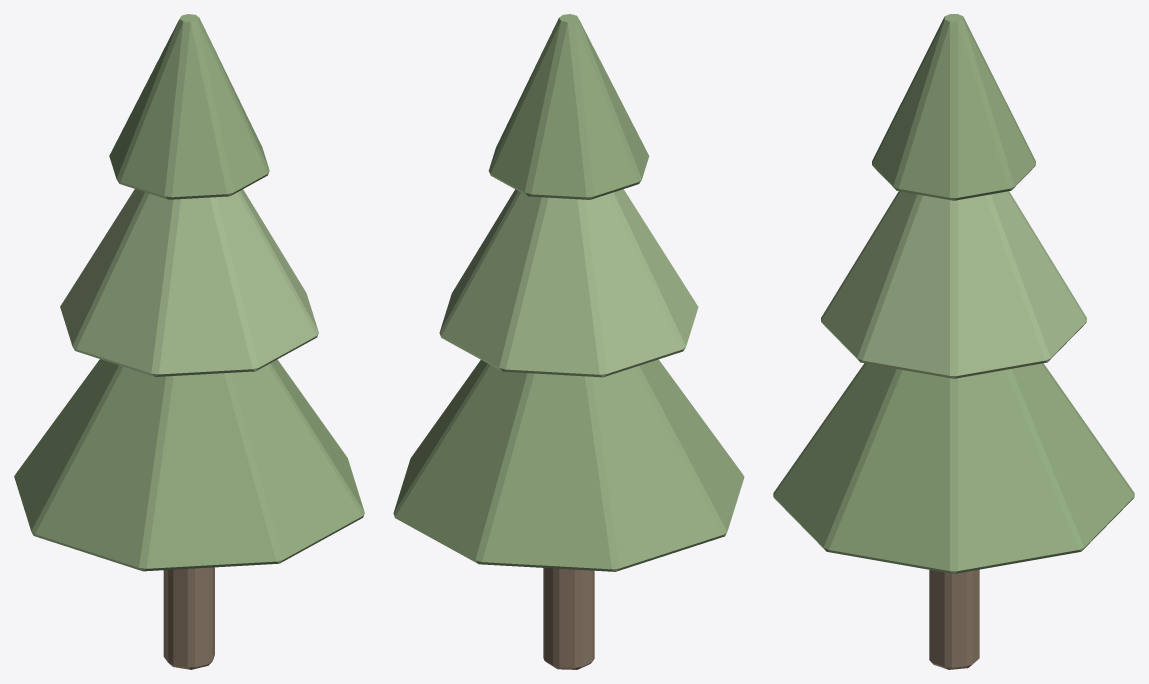
File: tree_pine.glb
3 views of the same model, side by side, from view 1: azimuth 30°, elevation 25°; view 2: azimuth 150°, elevation 25°; view 3: azimuth 270°, elevation 25° (orthographic).
Parts seen in each view (by area): view 1: c1, c2, c3, trunk; view 2: c1, c2, c3, trunk; view 3: c1, c2, c3, trunk.
Part boxes in pixels (x1,y1,x2,y2): c1: (14, 359, 364, 571); c2: (60, 189, 318, 376); c3: (109, 14, 269, 199); trunk: (163, 567, 214, 669); c1: (393, 359, 744, 571); c2: (439, 189, 698, 377); c3: (488, 14, 649, 199); trunk: (543, 568, 594, 669); c1: (773, 363, 1134, 573); c2: (821, 191, 1086, 378); c3: (872, 14, 1035, 200); trunk: (929, 569, 979, 669).
Bounding box in the file's own units: 1.06 × 2.08 × 1.06.
